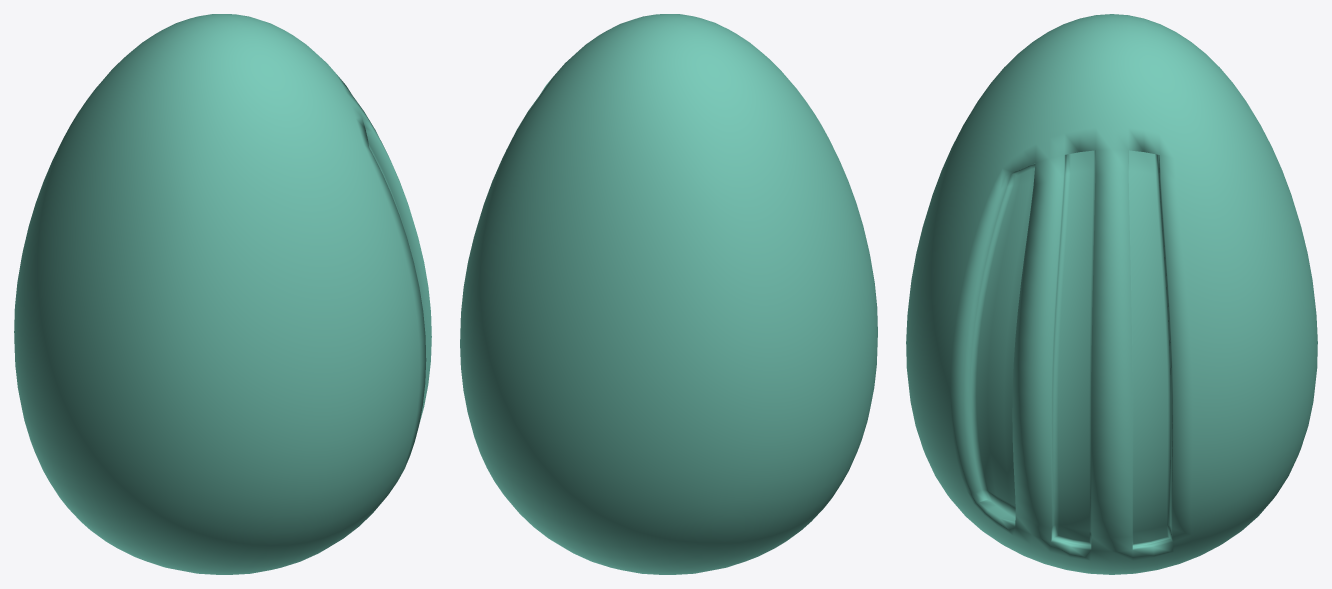
Rendered from Slime Egg  3.fbx.
3 renders of one model, left to right at view 1: azimuth 30°, elevation 25°; view 2: azimuth 150°, elevation 25°; view 3: azimuth 270°, elevation 25°, orthographic.
Parts seen in each view (by area): view 1: Slime Egg 1.003; view 2: Slime Egg 1.003; view 3: Slime Egg 1.003.
Part boxes in pixels (x1=…): Slime Egg 1.003: x1=14, y1=14, x2=431, y2=574; Slime Egg 1.003: x1=460, y1=14, x2=877, y2=574; Slime Egg 1.003: x1=906, y1=14, x2=1317, y2=574.
Bounding box in the file's own units: 256 × 362 × 256.
